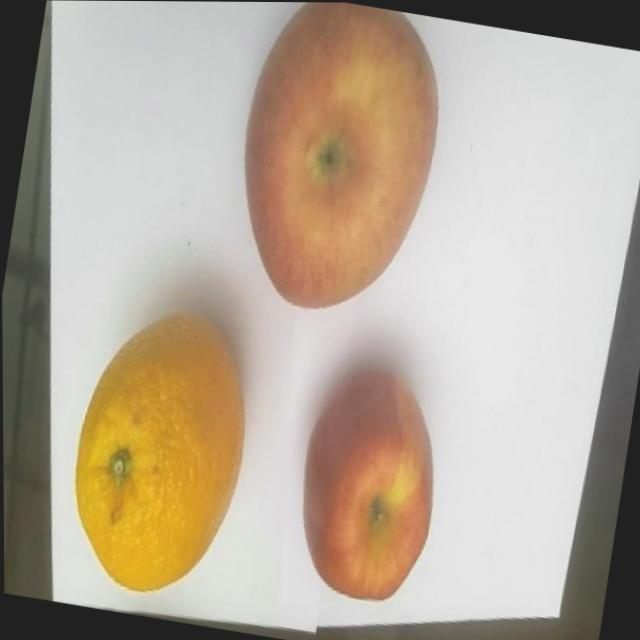Apple: (219, 1, 457, 324), (284, 358, 454, 609)
Orange: (56, 296, 266, 605)
